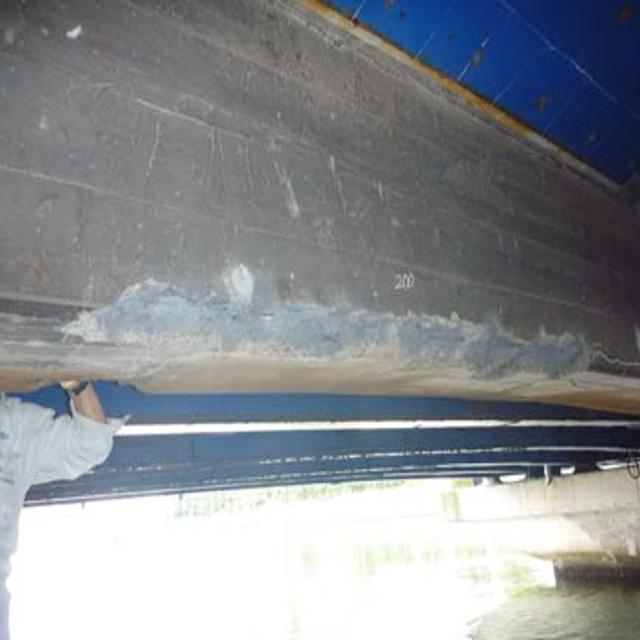spalling: (60, 253, 596, 393)
